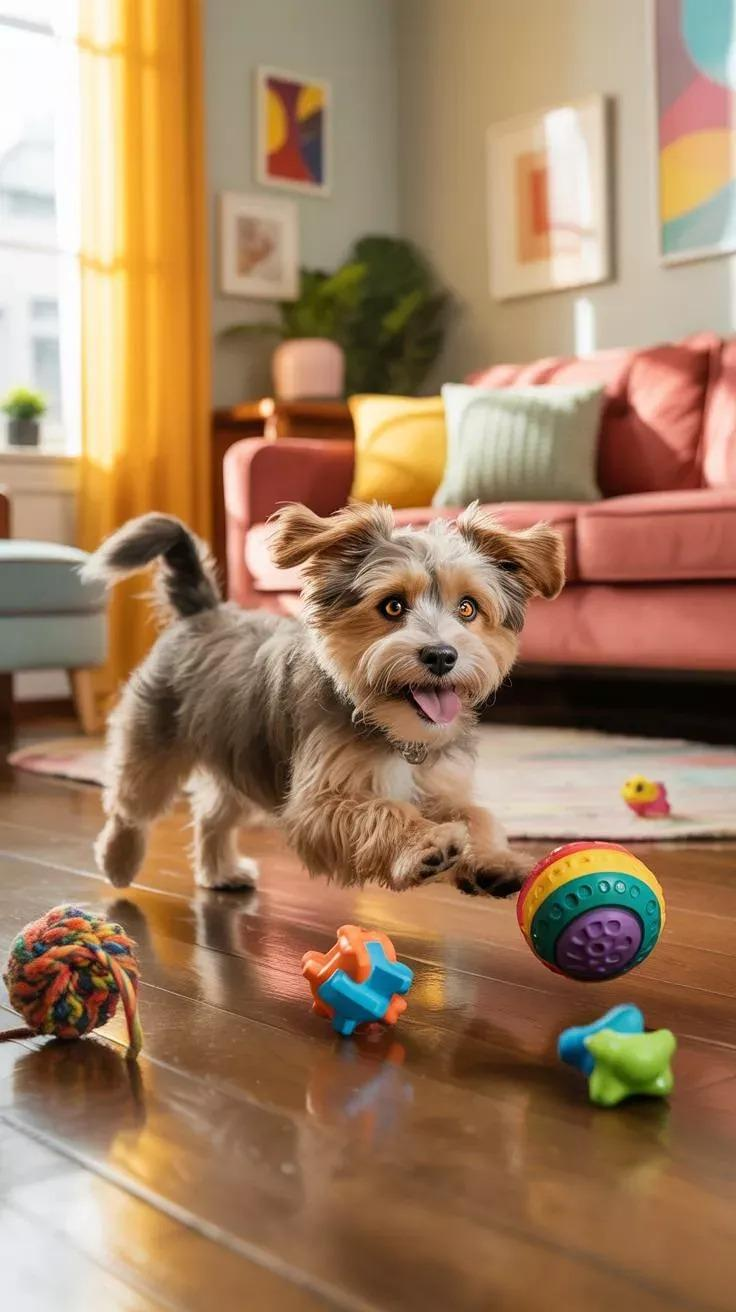adult_dog: (77, 496, 572, 901)
